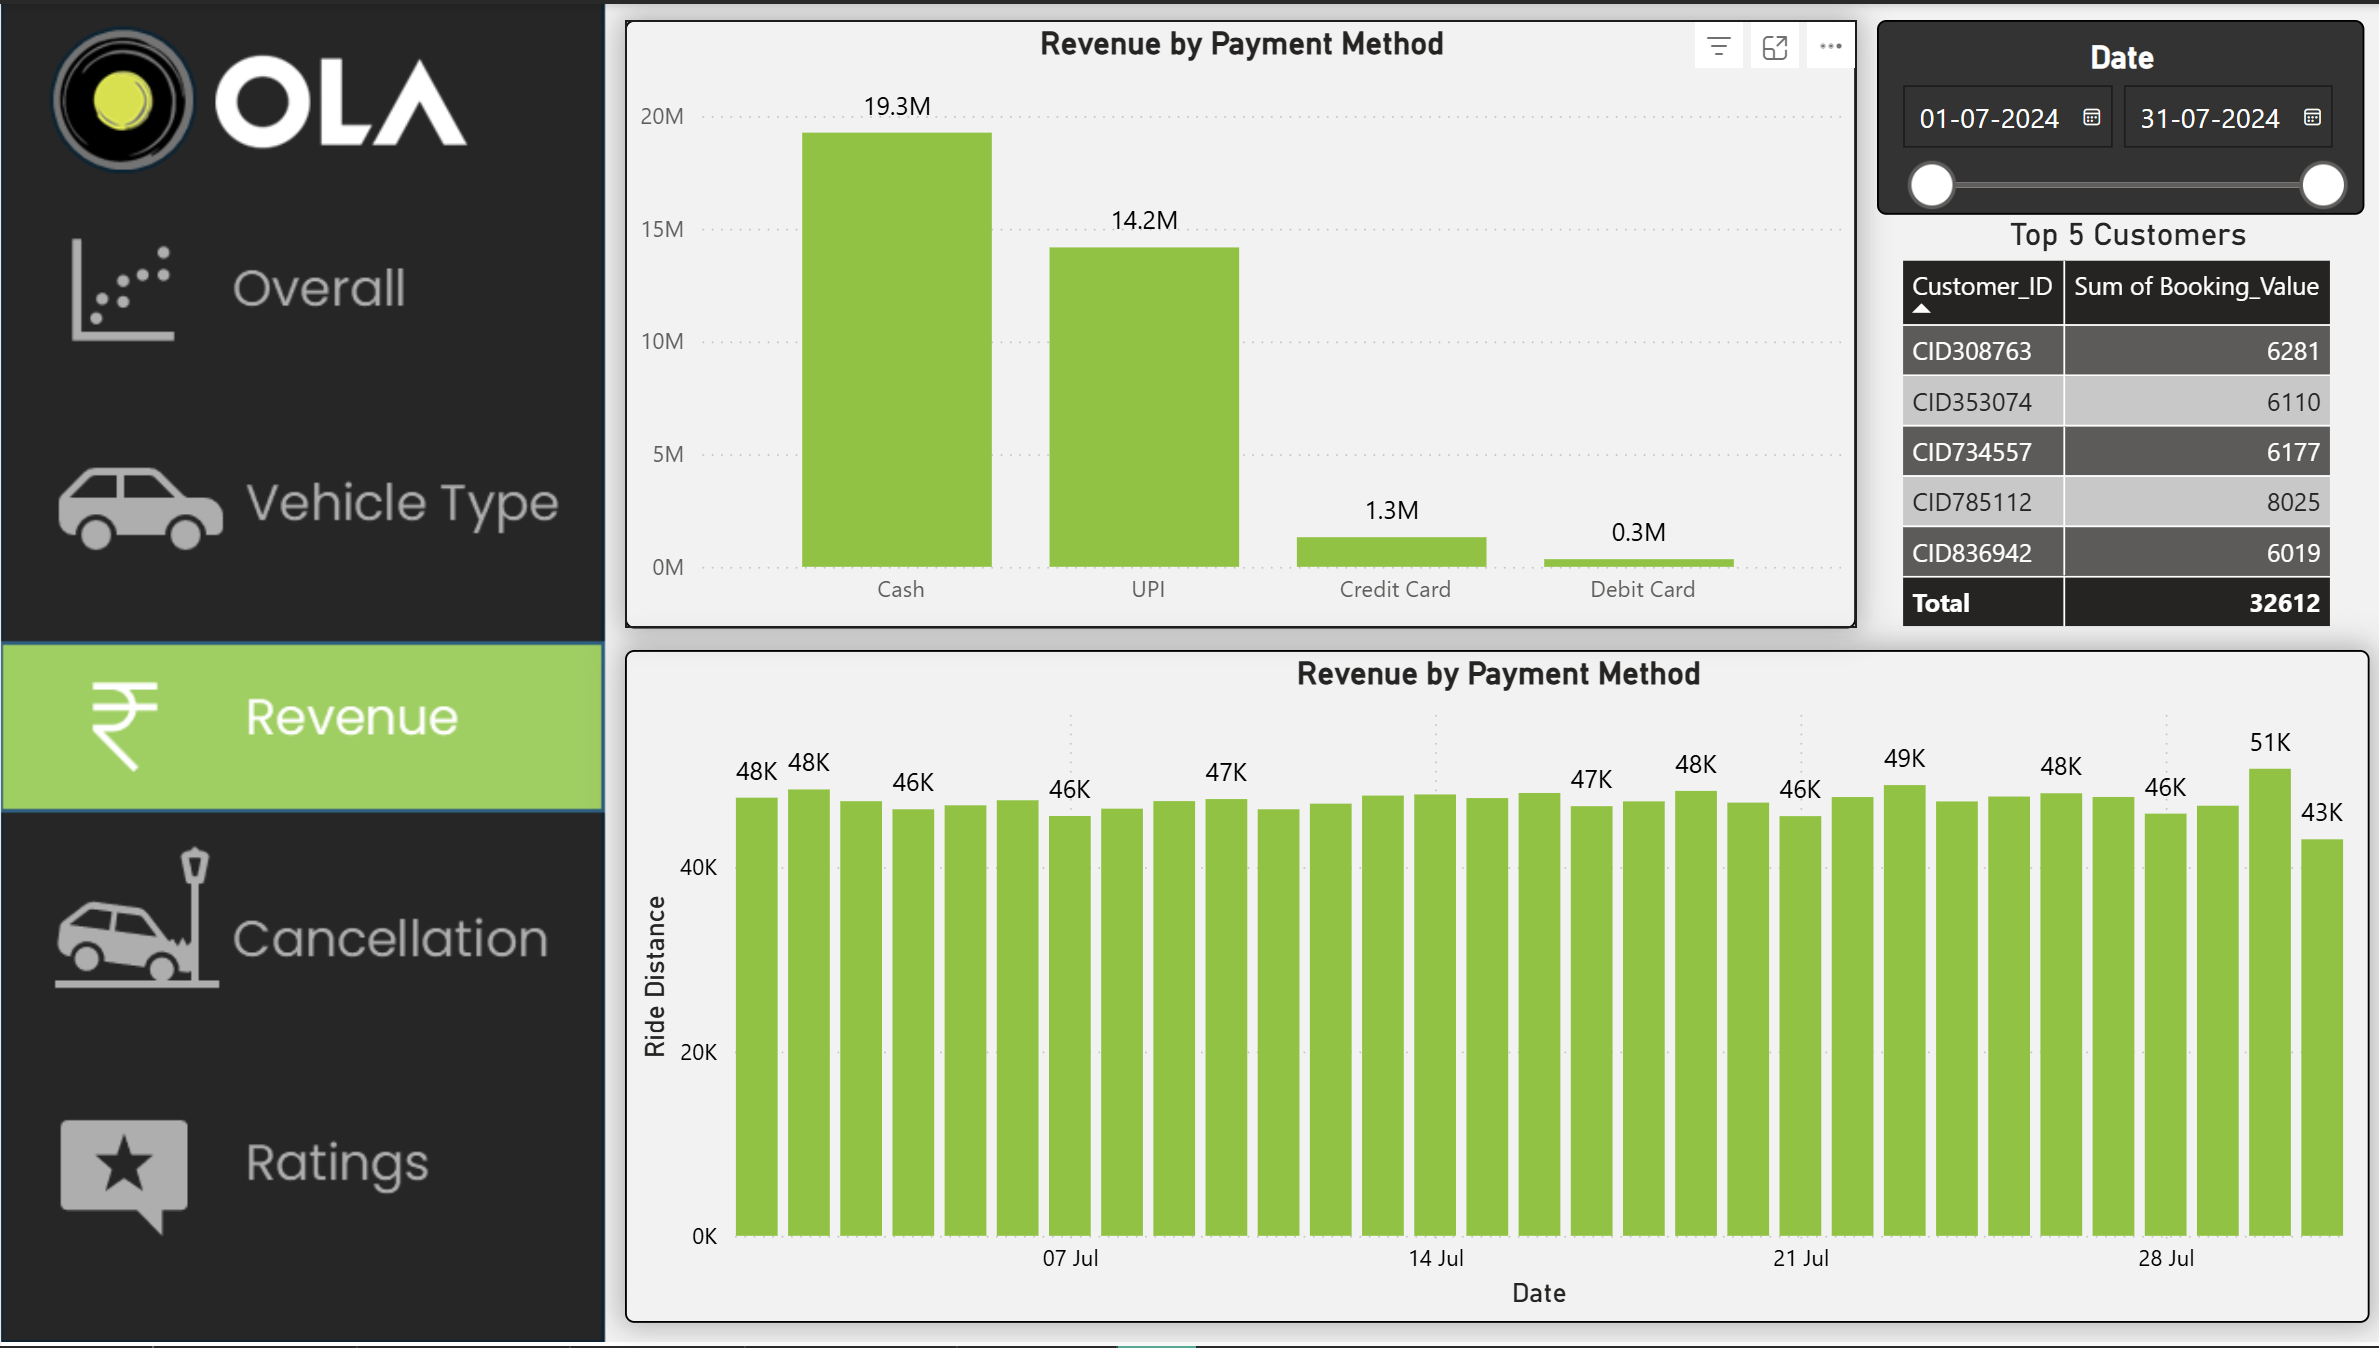

Layout of this report page (visuals, bound fields, positions):
{"tool":"powerbi","page":{"name":"Revenue","canvas":[1280,720],"ordinal":2},"visuals":[{"type":"actionButton","box":[0,213.7,322.8,95.7],"z":0},{"type":"actionButton","box":[151.4,478.6,322.8,89],"z":1000},{"type":"actionButton","box":[0,446.3,322.8,93.5],"z":2000},{"type":"actionButton","box":[0,577.7,322.8,93.5],"z":3000},{"type":"actionButton","box":[0,104.6,322.8,93.5],"z":4000},{"type":"actionButton","box":[0,577.7,322.8,93.5],"z":5000},{"type":"columnChart","title":"Revenue by Payment Method","fields":{"Category":["July.Payment_Method"],"Y":["Sum(July.Booking_Value)"]},"box":[335.3,8.9,660.4,326.4],"z":6000},{"type":"columnChart","title":"Revenue by Payment Method","fields":{"Category":["July.Date"],"Y":["Sum(July.Ride_Distance)"]},"box":[335.3,346.8,935.8,360.8],"z":7000},{"type":"slicer","title":"Date","fields":{"Values":["July.Date"]},"box":[1006.2,8.9,261.6,104.6],"z":8000},{"type":"tableEx","title":"Top 5 Customers","fields":{"Values":["July.Customer_ID","Sum(July.Booking_Value)"]},"box":[1006.2,113.5,261.6,221.5],"z":9000}]}

Visuals, with their boxes on the page's 1280x720 design canvas (x1, y1, x2, y2). These are canvas units, not pixel positions in the 2379x1348 screenshot, which may show the page scaled, cropped or inside an application window:
actionButton: select_region(0, 214, 323, 309)
actionButton: select_region(151, 479, 474, 568)
actionButton: select_region(0, 446, 323, 540)
actionButton: select_region(0, 578, 323, 671)
actionButton: select_region(0, 105, 323, 198)
actionButton: select_region(0, 578, 323, 671)
"Revenue by Payment Method" columnChart: select_region(335, 9, 996, 335)
"Revenue by Payment Method" columnChart: select_region(335, 347, 1271, 708)
"Date" slicer: select_region(1006, 9, 1268, 114)
"Top 5 Customers" tableEx: select_region(1006, 114, 1268, 335)
